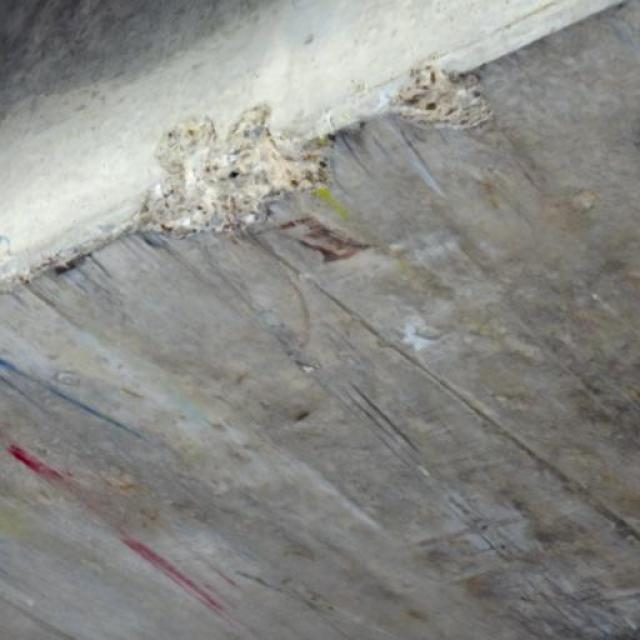D10: (138, 104, 330, 236), (389, 66, 491, 128)
